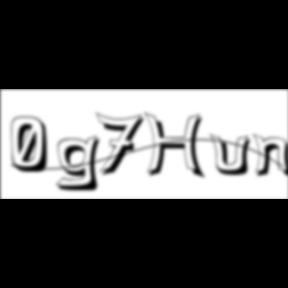0: (12, 115, 56, 174)
7: (96, 111, 150, 179)
H: (144, 112, 210, 182)
g: (56, 134, 108, 194)
u: (210, 132, 258, 178)
